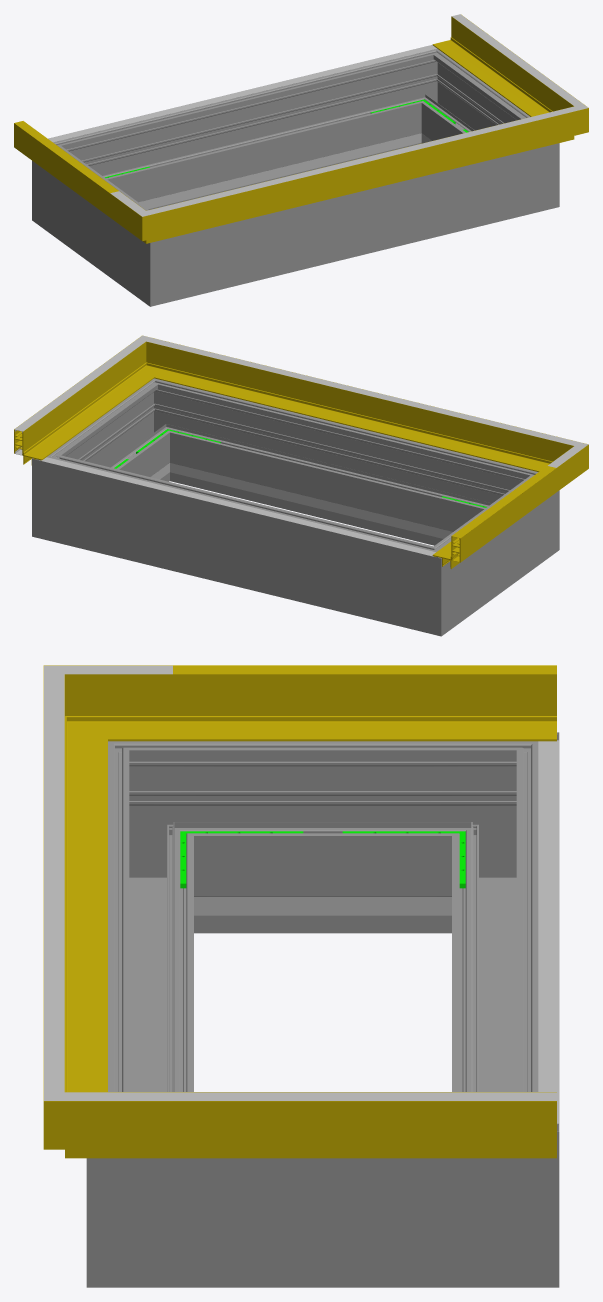
3 renders of one model, top to bottom at view 1: azimuth 30°, elevation 25°; view 2: azimuth 150°, elevation 25°; view 3: azimuth 270°, elevation 25°, orthographic. The views are drawn at different scales.
Visible parts, largest first — view 1: 3DGeom-277, 3DGeom-299, 3DGeom-56, 3DGeom-271, 3DGeom-58, 3DGeom-285, 3DGeom-291, 3DGeom-269, 3DGeom-298, 3DGeom-279, 3DGeom-50, 3DGeom-52 (+9 smaller); view 2: 3DGeom-299, 3DGeom-277, 3DGeom-56, 3DGeom-279, 3DGeom-285, 3DGeom-58, 3DGeom-291, 3DGeom-298, 3DGeom-269, 3DGeom-50, 3DGeom-271, 3DGeom-60 (+9 smaller); view 3: 3DGeom-269, 3DGeom-298, 3DGeom-50, 3DGeom-58, 3DGeom-277, 3DGeom-299, 3DGeom-285, 3DGeom-291, 3DGeom-56, 3DGeom-279, 3DGeom-271, 3DGeom-52 (+9 smaller).
Part boxes in pixels (<box>): 3DGeom-277: <box>93,60,412,209</box>; 3DGeom-299: <box>206,157,503,293</box>; 3DGeom-56: <box>192,120,533,232</box>; 3DGeom-271: <box>118,201,205,306</box>; 3DGeom-58: <box>432,14,552,115</box>; 3DGeom-285: <box>391,48,464,145</box>; 3DGeom-291: <box>503,108,559,220</box>; 3DGeom-269: <box>64,161,135,282</box>; 3DGeom-298: <box>427,68,517,140</box>; 3DGeom-279: <box>32,133,114,243</box>; 3DGeom-50: <box>14,121,118,217</box>; 3DGeom-52: <box>110,192,198,243</box>; 3DGeom-299: <box>179,390,498,545</box>; 3DGeom-277: <box>88,464,395,622</box>; 3DGeom-56: <box>182,349,531,466</box>; 3DGeom-279: <box>385,530,473,636</box>; 3DGeom-285: <box>32,437,97,550</box>; 3DGeom-58: <box>14,359,137,465</box>; 3DGeom-291: <box>127,378,200,483</box>; 3DGeom-298: <box>73,398,164,480</box>; 3DGeom-269: <box>455,491,527,612</box>; 3DGeom-50: <box>432,466,556,568</box>; 3DGeom-271: <box>477,462,559,573</box>; 3DGeom-60: <box>113,338,195,389</box>; 3DGeom-269: <box>215,741,430,933</box>; 3DGeom-298: <box>215,1158,430,1287</box>; 3DGeom-50: <box>172,665,556,741</box>; 3DGeom-58: <box>172,1092,556,1158</box>; 3DGeom-277: <box>452,786,559,1091</box>; 3DGeom-299: <box>108,786,193,1091</box>; 3DGeom-285: <box>430,1077,559,1287</box>; 3DGeom-291: <box>86,1077,215,1287</box>; 3DGeom-56: <box>43,720,107,1091</box>; 3DGeom-279: <box>430,732,559,933</box>; 3DGeom-271: <box>108,741,215,933</box>; 3DGeom-52: <box>43,665,172,766</box>.
Size of the model in its own units: 1.22 by 0.2669 by 0.6096.
